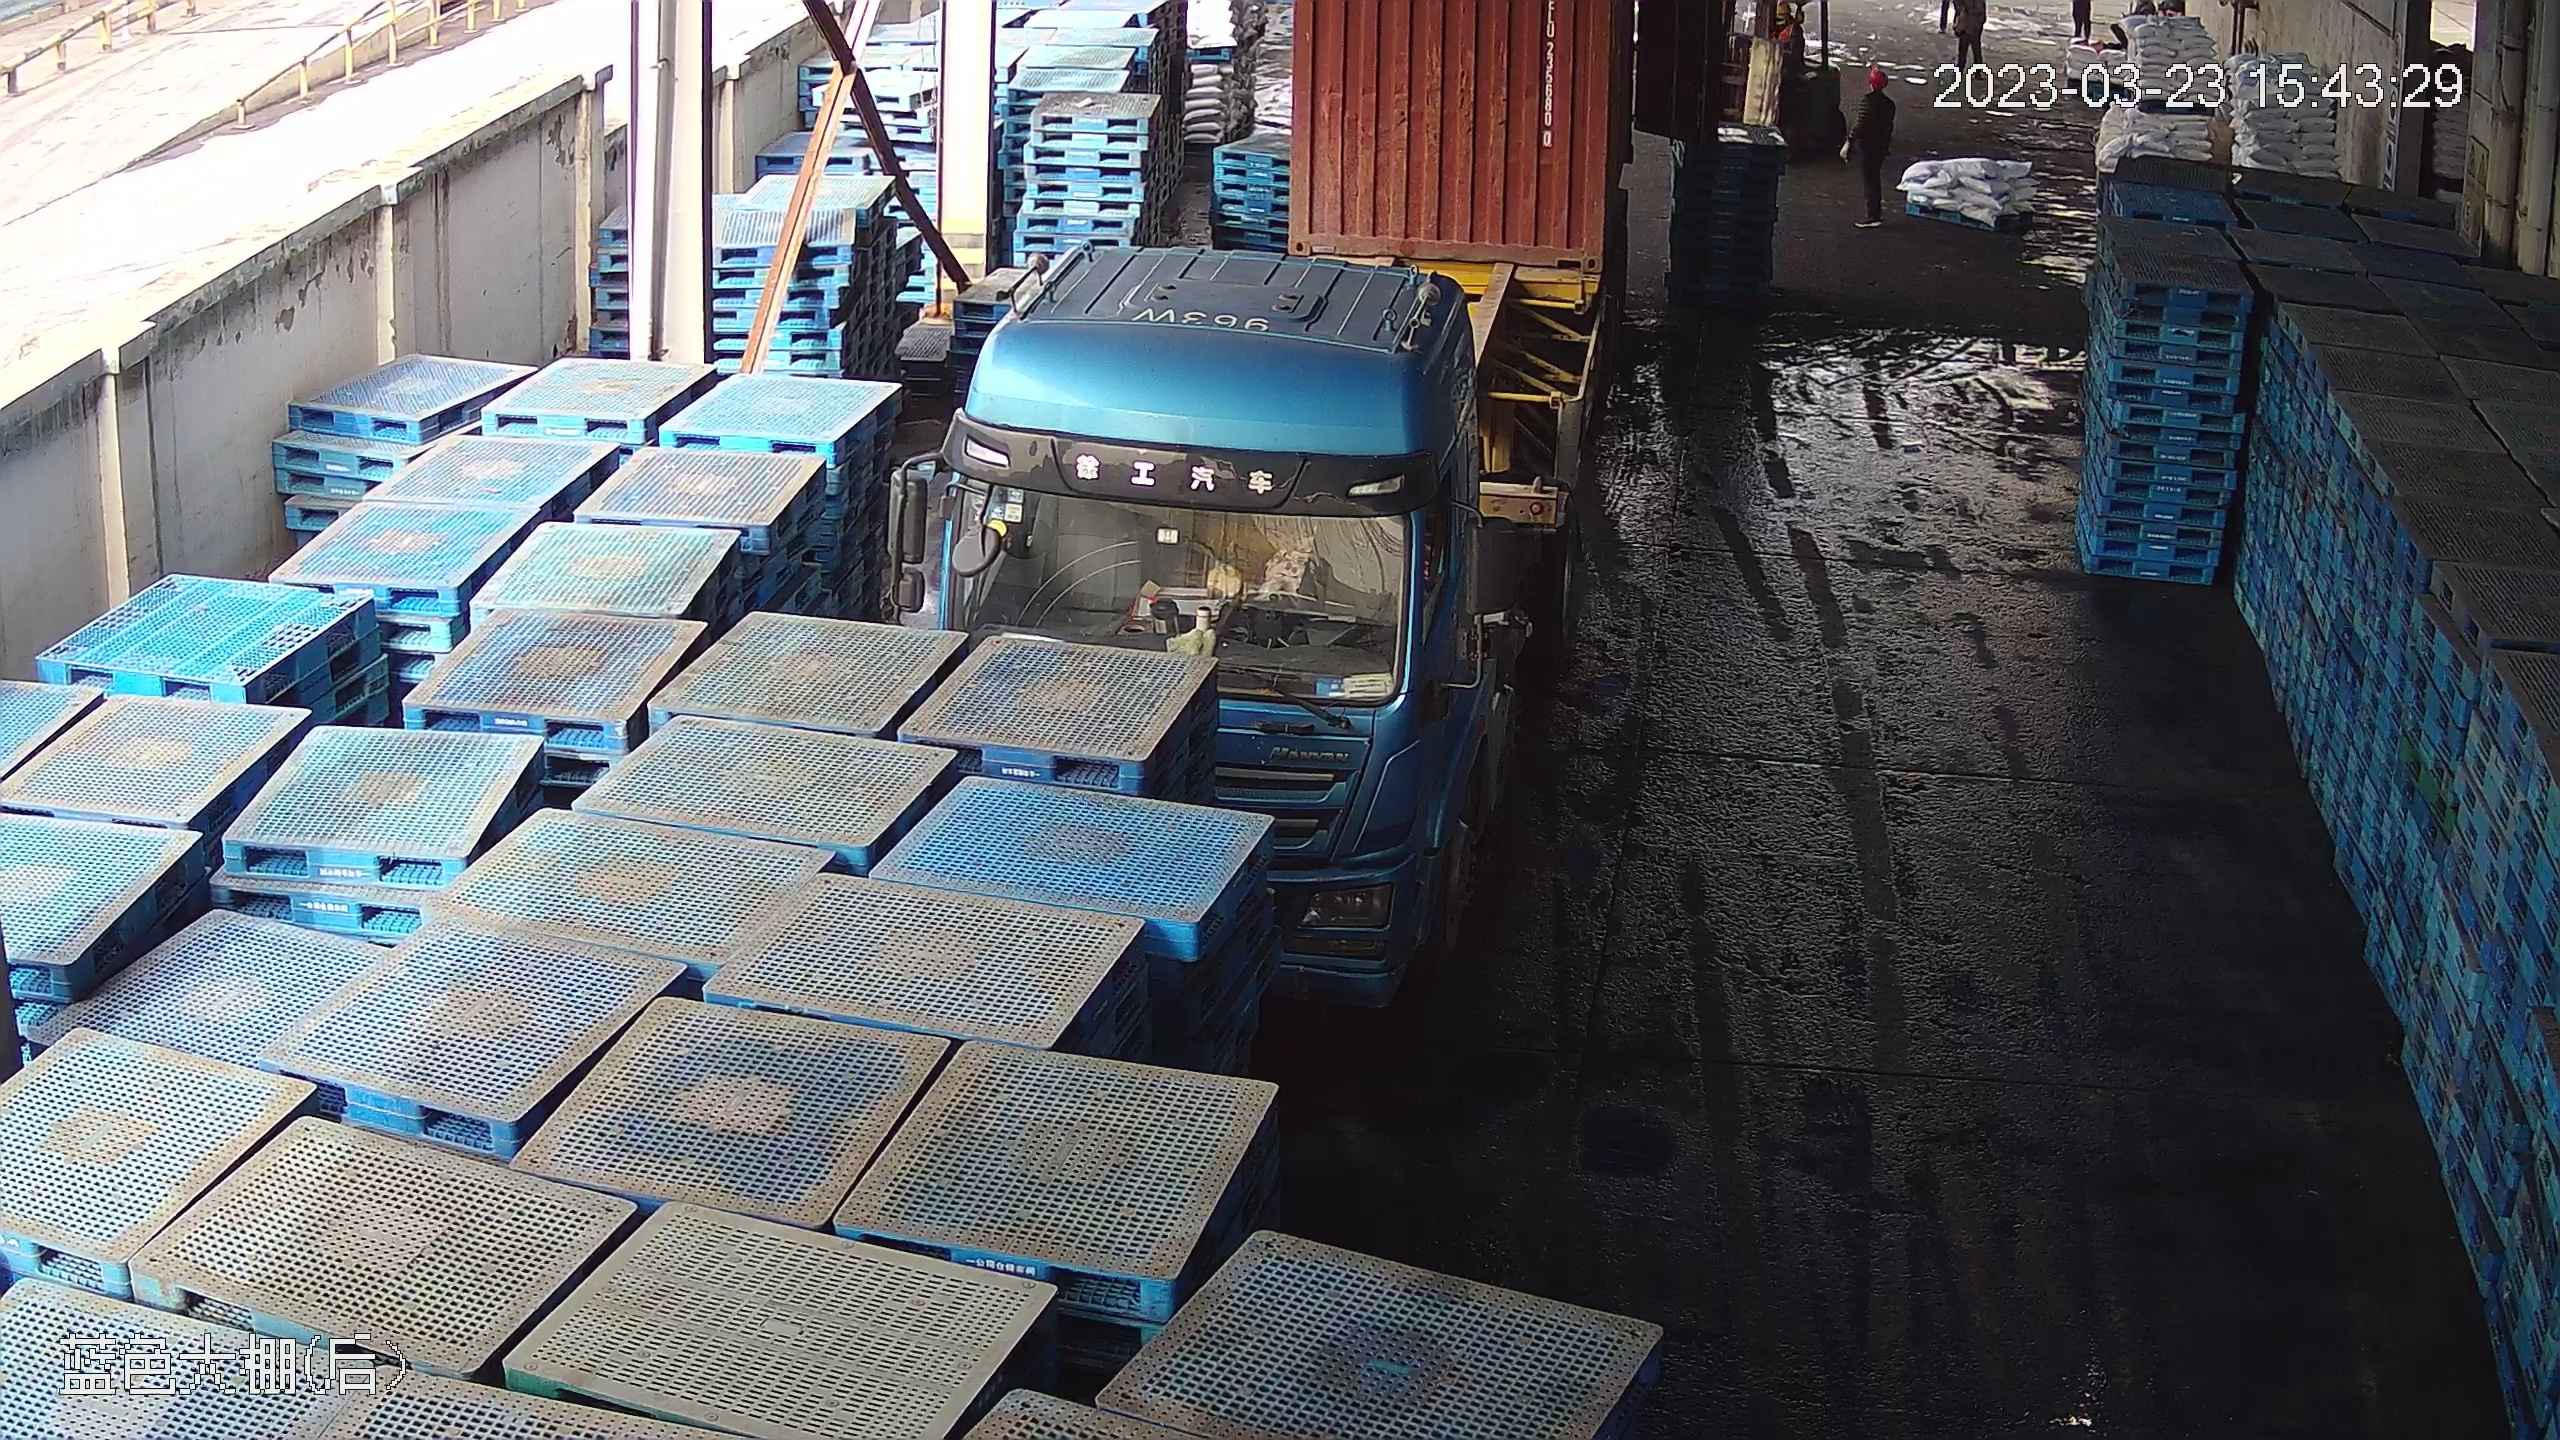head: (1855, 65, 1899, 114)
helmet: (1863, 69, 1890, 92)
people: (1851, 64, 1900, 226)
truck: (895, 1, 1625, 850)
